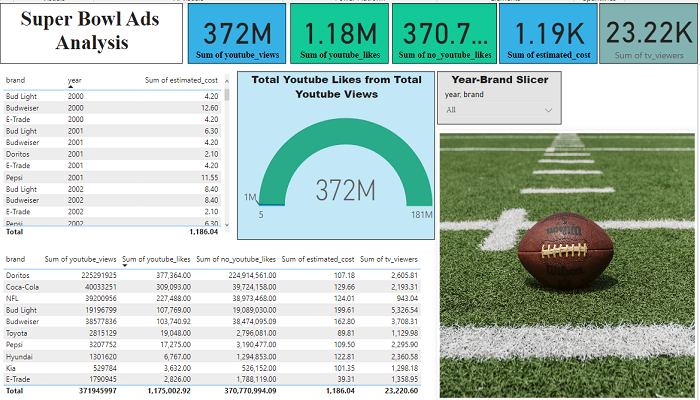

This screenshot's page, from the dashboard's own definition file:
{"tool":"powerbi","page":{"name":"Tables_1","canvas":[1280,720],"ordinal":0},"visuals":[{"type":"tableEx","fields":{"Values":["analysis.brand","analysis.year","Sum(analysis.estimated_cost)"]},"box":[0,123.6,425.8,304.9],"z":0},{"type":"tableEx","fields":{"Values":["analysis.brand","Sum(analysis.youtube_views)","Sum(analysis.youtube_likes)","Sum(analysis.no_youtube_likes)","Sum(analysis.estimated_cost)","Sum(analysis.tv_viewers)"]},"box":[0,447.7,782.8,271.9],"z":2000},{"type":"card","fields":{"Values":["Sum(analysis.youtube_views)"]},"box":[344.7,0,179.9,109.9],"z":4000},{"type":"card","fields":{"Values":["Sum(analysis.youtube_likes)"]},"box":[532.9,0,179.9,109.9],"z":5000},{"type":"card","fields":{"Values":["Sum(analysis.no_youtube_likes)"]},"box":[719.7,0,192.3,109.9],"z":6000},{"type":"card","fields":{"Values":["Sum(analysis.estimated_cost)"]},"box":[915.5,0,179.9,109.9],"z":7000},{"type":"card","fields":{"Values":["Sum(analysis.tv_viewers)"]},"box":[1100.1,0,179.9,109.9],"z":8000},{"type":"gauge","title":"Total Youtube Likes from Total Youtube Views","fields":{"Y":["Sum(analysis.youtube_views)"],"MinValue":["Min(analysis.youtube_views)"],"MaxValue":["Max(analysis.youtube_views)"],"TargetValue":["Sum(analysis.youtube_likes)"]},"box":[435.4,123.6,362.6,304.9],"z":9000},{"type":"slicer","title":"Year-Brand Slicer","fields":{"Values":["analysis.year","analysis.brand"]},"box":[802.1,123.6,228,96.1],"z":10000},{"type":"textbox","box":[0,0,335.1,109.9],"z":11000},{"type":"image","box":[802.1,230.7,477.9,488.9],"z":11001}]}

Visuals, with their boxes in screenshot pixels (x1, y1, x2, y2), scaled from the page's 1280x720 canvas onto the 700x400 screenshot:
tableEx - analysis.brand x analysis.year: <region>0, 69, 233, 238</region>
tableEx - analysis.brand x Sum(analysis.youtube_views): <region>0, 249, 428, 399</region>
card - Sum(analysis.youtube_views): <region>189, 0, 287, 61</region>
card - Sum(analysis.youtube_likes): <region>291, 0, 390, 61</region>
card - Sum(analysis.no_youtube_likes): <region>394, 0, 499, 61</region>
card - Sum(analysis.estimated_cost): <region>501, 0, 599, 61</region>
card - Sum(analysis.tv_viewers): <region>602, 0, 699, 61</region>
"Total Youtube Likes from Total Youtube Views" gauge: <region>238, 69, 436, 238</region>
"Year-Brand Slicer" slicer: <region>439, 69, 563, 122</region>
textbox: <region>0, 0, 183, 61</region>
image: <region>439, 128, 699, 399</region>
